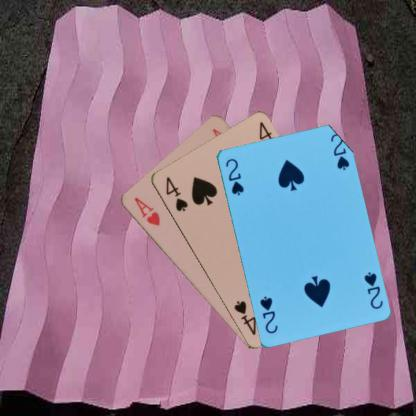2s: (361, 269, 384, 310), (222, 156, 245, 196)
4s: (162, 174, 189, 213)
Ah: (131, 195, 161, 227)
